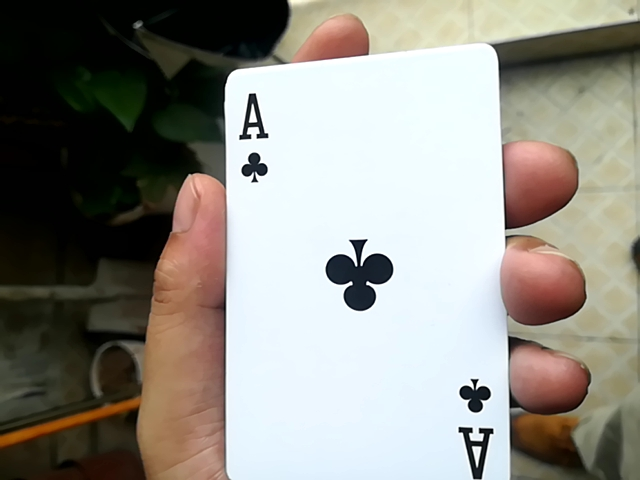mh a: (211, 40, 521, 480)
